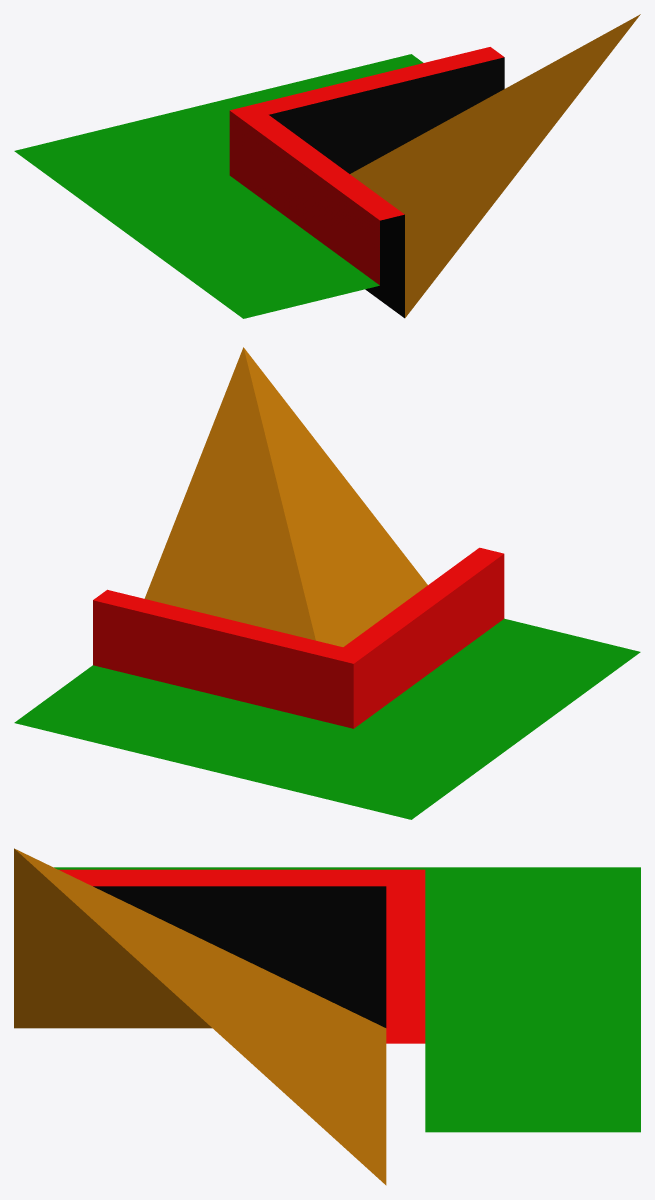
3 renders of one model, top to bottom at view 1: azimuth 30°, elevation 25°; view 2: azimuth 150°, elevation 25°; view 3: azimuth 270°, elevation 25°, orthographic. The views are drawn at different scales.
Parts seen in each view (by area): view 1: None_W_S_E_E_W_W_E_E_None; view 2: None_W_S_E_E_W_W_E_E_None; view 3: None_W_S_E_E_W_W_E_E_None.
Boxes of the visible parts, x1,y1,x2,y2 form: None_W_S_E_E_W_W_E_E_None: (14, 14, 640, 318); None_W_S_E_E_W_W_E_E_None: (14, 347, 640, 819); None_W_S_E_E_W_W_E_E_None: (14, 848, 640, 1185).
Size of the model in its own units: 100 by 59.38 by 100.
